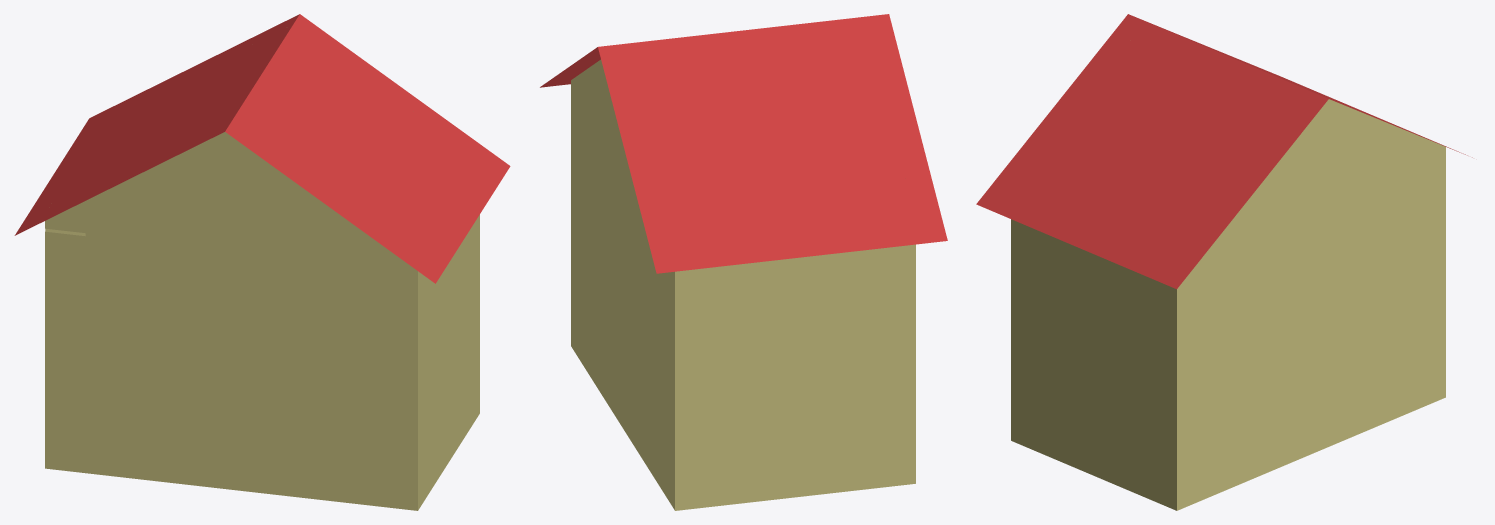
3 renders of one model, left to right at view 1: azimuth 30°, elevation 25°; view 2: azimuth 150°, elevation 25°; view 3: azimuth 270°, elevation 25°, orthographic. The views are drawn at different scales.
Visible parts, largest first — view 1: group_5, group_3, group_4; view 2: group_5, group_3, group_4; view 3: group_5, group_3, group_4.
Boxes of the visible parts, left/top/right/bottom form: group_5: left=45, top=132, right=479, bottom=510; group_3: left=15, top=14, right=509, bottom=283; group_4: left=15, top=14, right=510, bottom=235; group_5: left=571, top=59, right=915, bottom=510; group_3: left=540, top=14, right=947, bottom=273; group_4: left=541, top=15, right=947, bottom=240; group_5: left=1011, top=99, right=1445, bottom=510; group_3: left=976, top=14, right=1472, bottom=288; group_4: left=1108, top=14, right=1337, bottom=288.
Bounding box in the file's own units: 15.36 × 15.37 × 12.18.
